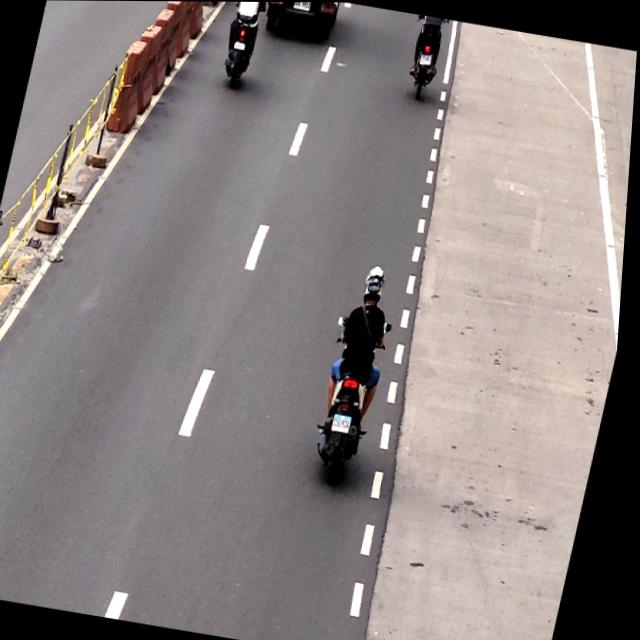License-Plate: (335, 411, 360, 435)
Motorcycle: (312, 258, 407, 489), (218, 1, 265, 92), (406, 15, 450, 99)
